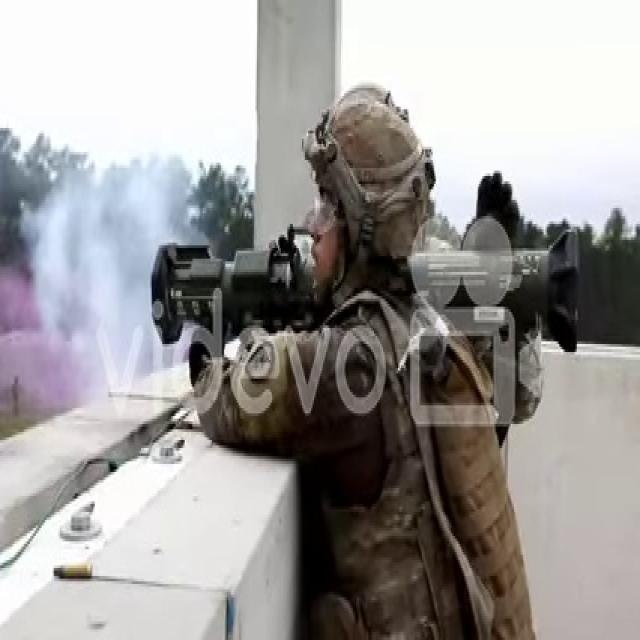bazooka: (151, 216, 585, 371)
